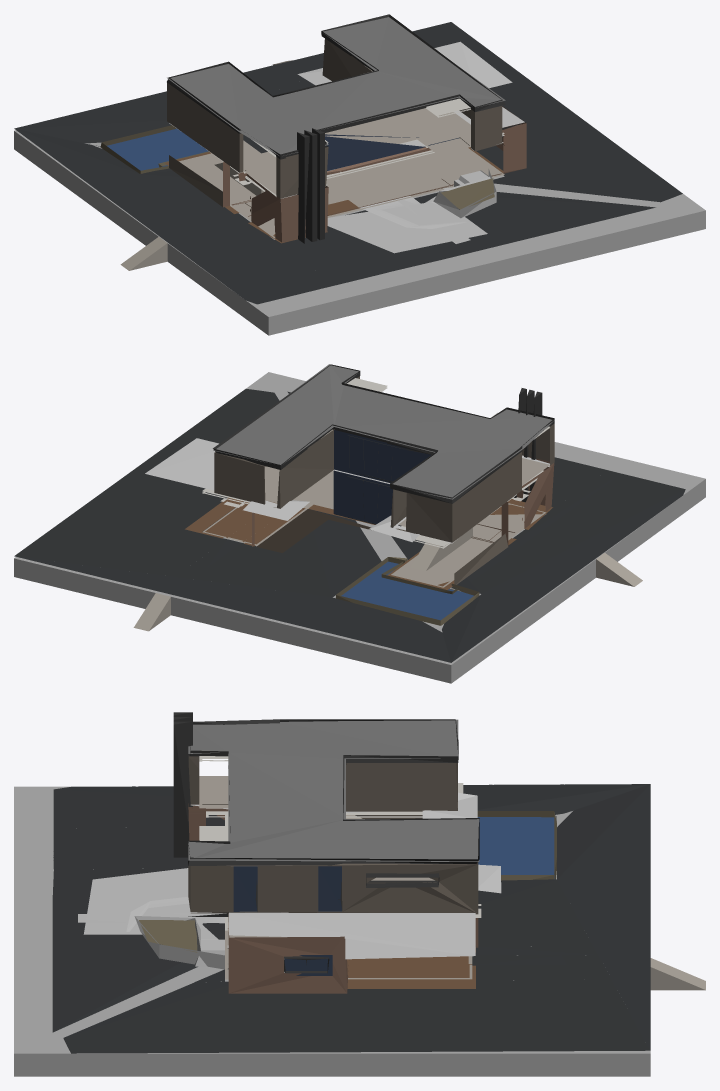
Rendered from pool-villa.zfix-v14.lod2.glb.
3 renders of one model, top to bottom at view 1: azimuth 30°, elevation 25°; view 2: azimuth 150°, elevation 25°; view 3: azimuth 270°, elevation 25°, orthographic. The views are drawn at different scales.
Parts seen in each view (by area): view 1: Box001_Material #8_0; view 2: Box001_Material #8_0; view 3: Box001_Material #8_0.
Boxes of the visible parts, bbox=[...] form: Box001_Material #8_0: bbox=[14, 14, 705, 335]; Box001_Material #8_0: bbox=[14, 364, 705, 683]; Box001_Material #8_0: bbox=[14, 712, 705, 1076].
Bounding box in the file's own units: 37.75 × 9.64 × 38.05.
